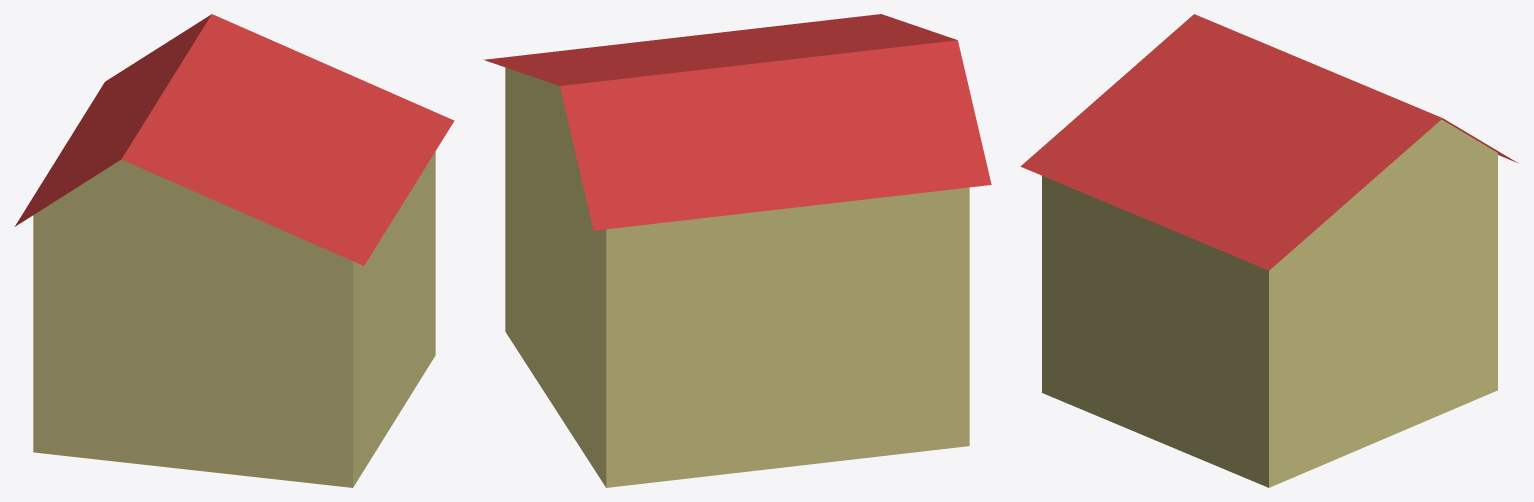
The picture shows the model from 3 angles, left to right: view 1: azimuth 30°, elevation 25°; view 2: azimuth 150°, elevation 25°; view 3: azimuth 270°, elevation 25°; orthographic projection. The views are drawn at different scales.
Bounding box in the file's own units: 16.41 × 16.41 × 11.05.
